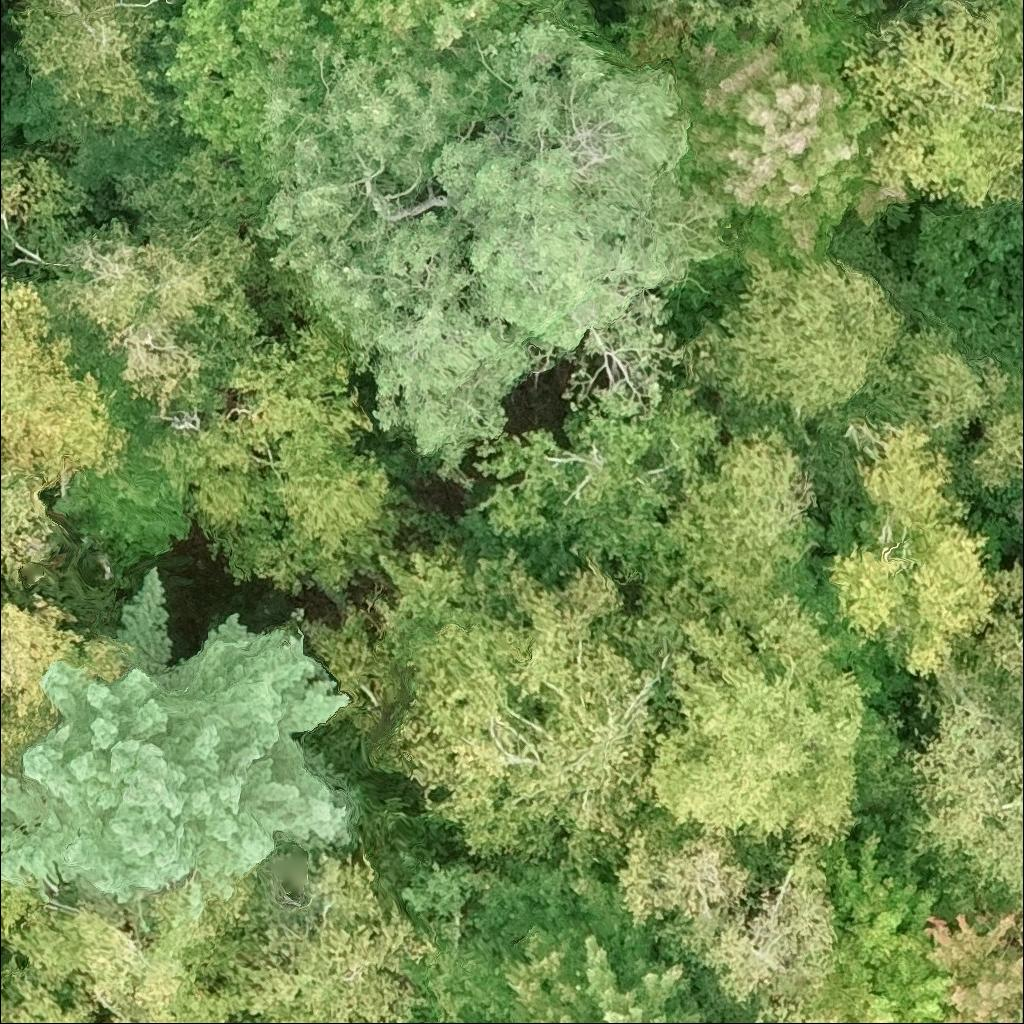crown: (251, 13, 734, 491), (303, 539, 684, 891), (0, 560, 353, 920), (603, 0, 910, 267), (153, 322, 421, 600), (675, 236, 1023, 448), (646, 577, 899, 852), (42, 140, 280, 432), (825, 412, 1003, 677), (614, 804, 837, 1015), (840, 0, 1023, 215), (143, 0, 328, 198), (640, 426, 817, 625), (810, 803, 967, 1023), (500, 871, 727, 1023), (221, 863, 435, 1023), (889, 661, 1023, 909), (0, 263, 132, 481), (0, 909, 237, 1023), (6, 0, 179, 145), (0, 593, 126, 775), (317, 0, 622, 68), (955, 561, 1023, 730), (923, 911, 1023, 1023), (0, 152, 93, 260), (0, 467, 67, 590), (620, 0, 826, 38), (968, 371, 1023, 497), (752, 1001, 849, 1023), (984, 901, 1023, 950), (1022, 1018, 1023, 1023), (1023, 367, 1023, 367)
